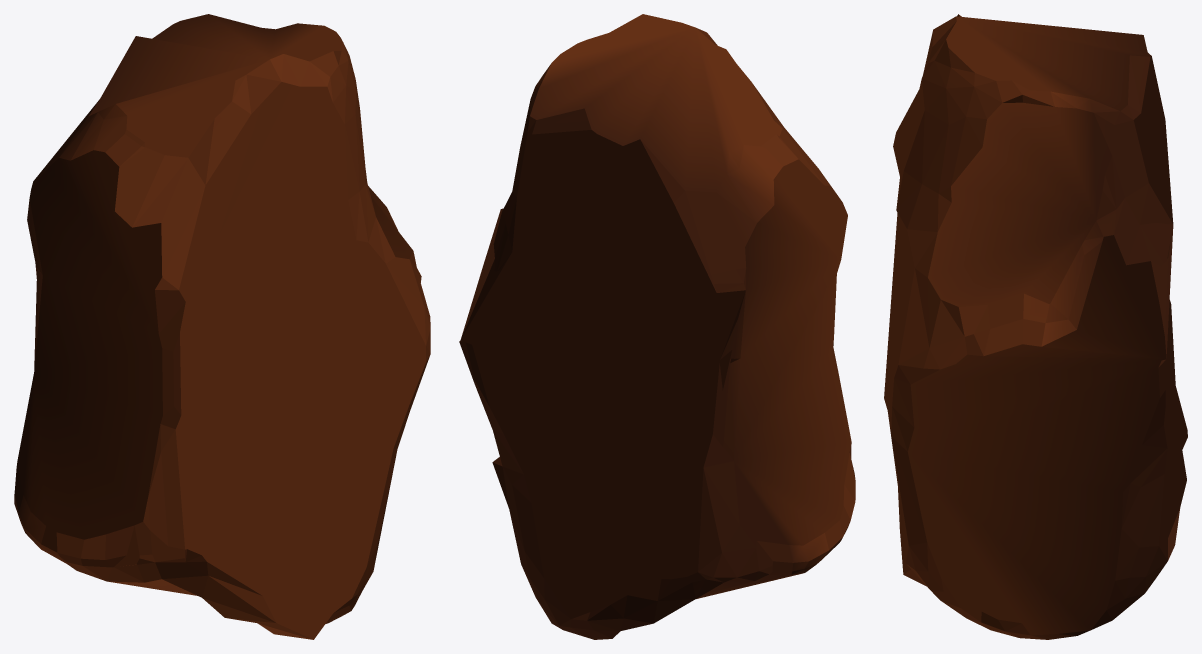
The model's file is Rock4.fbx.
The picture shows the model from 3 angles, left to right: view 1: azimuth 30°, elevation 25°; view 2: azimuth 150°, elevation 25°; view 3: azimuth 270°, elevation 25°; orthographic projection. The views are drawn at different scales.
Visible parts, largest first — view 1: Rock4; view 2: Rock4; view 3: Rock4.
Boxes of the visible parts, bbox=[...] form: Rock4: bbox=[14, 14, 430, 639]; Rock4: bbox=[459, 14, 855, 639]; Rock4: bbox=[884, 14, 1187, 639].
Bounding box in the file's own units: 415 × 671 × 312.
